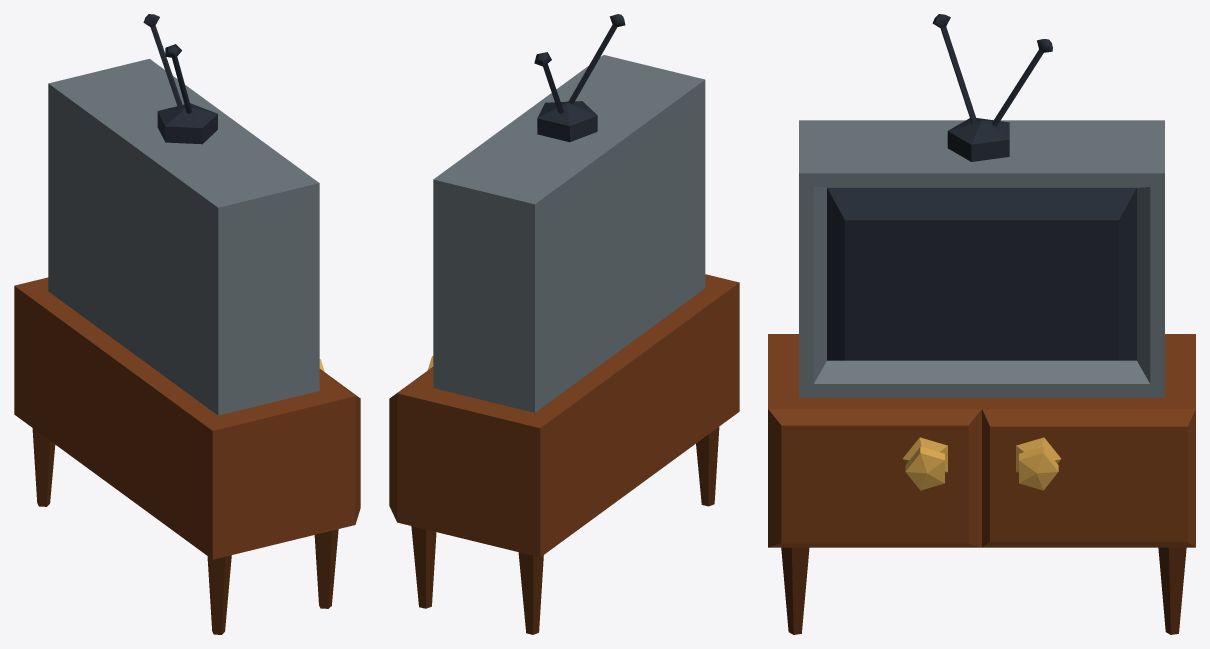
File: g_o_Television.fbx
3 views of the same model, side by side, from view 1: azimuth 30°, elevation 25°; view 2: azimuth 150°, elevation 25°; view 3: azimuth 270°, elevation 25° (orthographic). The views are drawn at different scales.
Parts seen in each view (by area): view 1: TV, Cubboard; view 2: TV, Cubboard; view 3: TV, Cubboard.
Boxes of the visible parts, x1,y1,x2,y2 form: TV: (48, 14, 319, 415); Cubboard: (14, 277, 360, 634); TV: (433, 14, 705, 412); Cubboard: (389, 274, 739, 634); TV: (799, 14, 1164, 397); Cubboard: (768, 334, 1195, 634).
Size of the model in its own units: 0.6911 by 1.93 by 1.31.
1 material, 1 textured.
